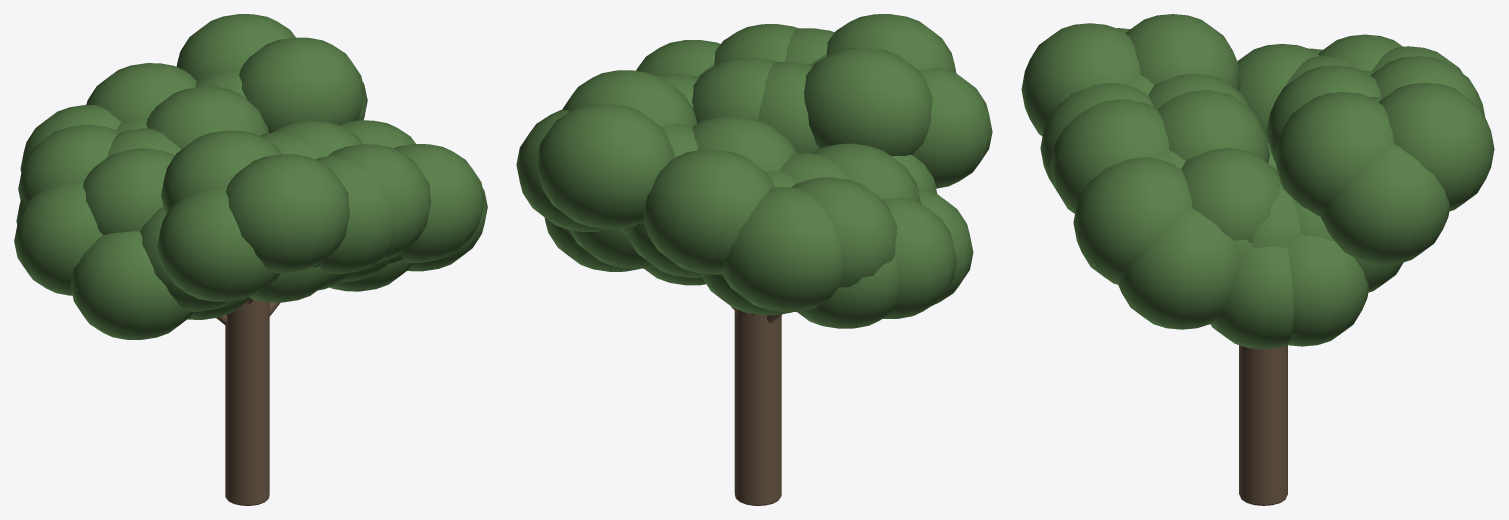
Rendered from Tree_Oak_Detailed_01_Detailed.fbx.
3 renders of one model, left to right at view 1: azimuth 30°, elevation 25°; view 2: azimuth 150°, elevation 25°; view 3: azimuth 270°, elevation 25°, orthographic. The views are drawn at different scales.
Parts seen in each view (by area): view 1: Tree_Oak_Detailed_01, Tree_Oak_Detailed_01_Trunk; view 2: Tree_Oak_Detailed_01, Tree_Oak_Detailed_01_Trunk; view 3: Tree_Oak_Detailed_01, Tree_Oak_Detailed_01_Trunk.
Part boxes in pixels (x1=…): Tree_Oak_Detailed_01: x1=14, y1=14, x2=487, y2=339; Tree_Oak_Detailed_01_Trunk: x1=225, y1=300, x2=269, y2=505; Tree_Oak_Detailed_01: x1=516, y1=14, x2=992, y2=328; Tree_Oak_Detailed_01_Trunk: x1=734, y1=310, x2=781, y2=505; Tree_Oak_Detailed_01: x1=1021, y1=14, x2=1494, y2=349; Tree_Oak_Detailed_01_Trunk: x1=1239, y1=345, x2=1287, y2=505.
Size of the model in its own units: 698 by 679 by 657.
